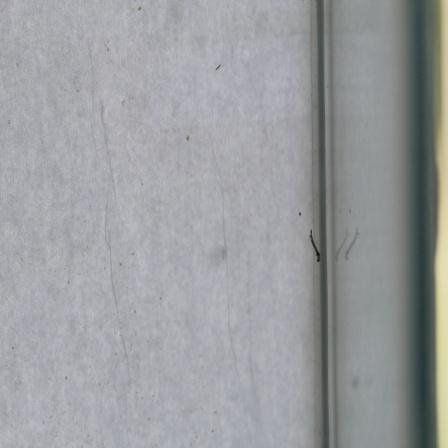Jentik-Nyamuk: (304, 224, 325, 267)
